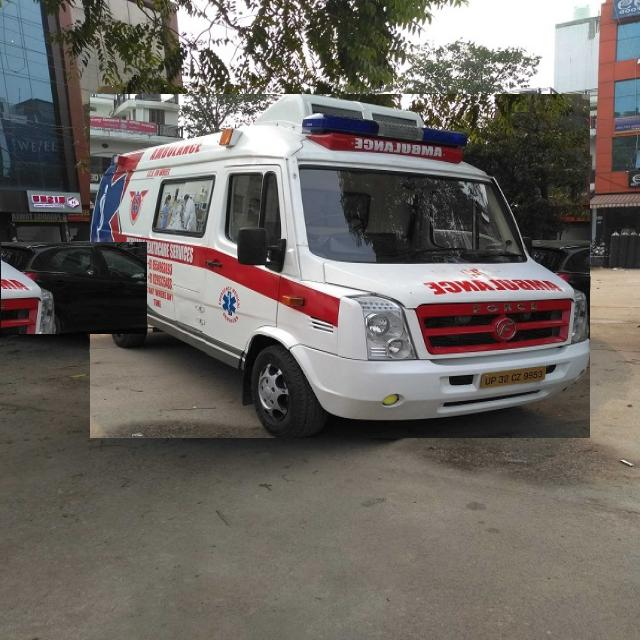car: (1, 242, 146, 334)
emergency: (90, 94, 590, 438)
